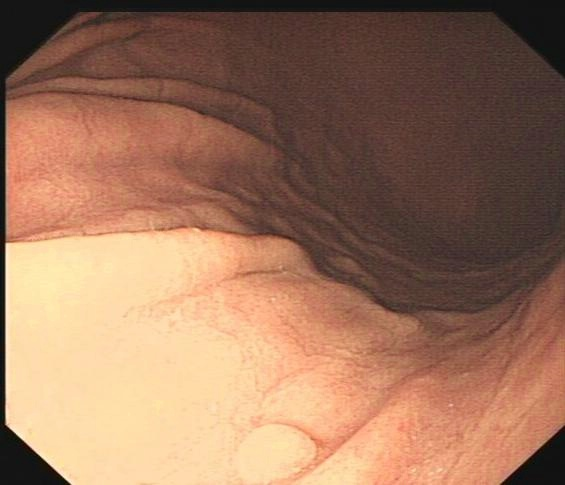Polyp: (225, 423, 319, 481)
